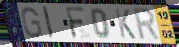0: (90, 7, 112, 41)
F: (64, 6, 87, 40)
G: (20, 6, 44, 39)
I: (41, 6, 56, 41)
K: (114, 8, 138, 41)
R: (132, 7, 162, 43)
